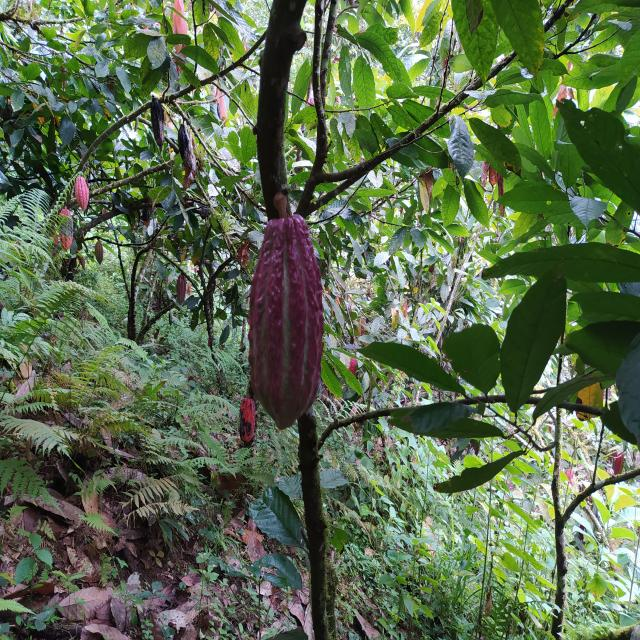Fitoftora: (178, 123, 192, 170), (240, 398, 254, 443), (152, 96, 164, 148), (60, 208, 73, 252), (142, 208, 150, 227)
Sana: (248, 210, 325, 432), (75, 177, 88, 211), (176, 274, 186, 304), (95, 241, 103, 264)
